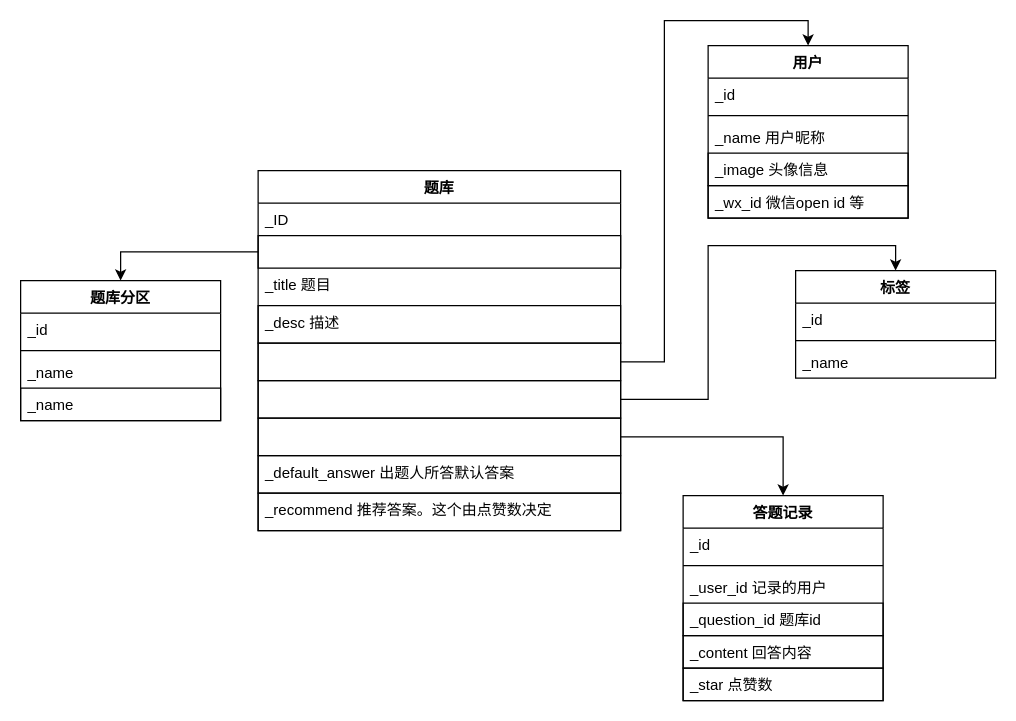
The diagram is 1016 pixels wide and 721 high, and some of its shapes have lost their labels. The centre of each missing label's shape, as x and y in pixels:
"_answer_ids 内嵌id数组的方式关联" belongs at point (439, 436).
"_category" belongs at point (439, 251).
"_label 标签 标签采用内嵌" belongs at point (439, 398).
"_user_id 创建这个题的用户，采用id 关联" belongs at point (439, 361).
